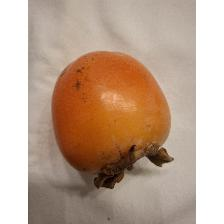Kaki: (47, 47, 177, 193)
